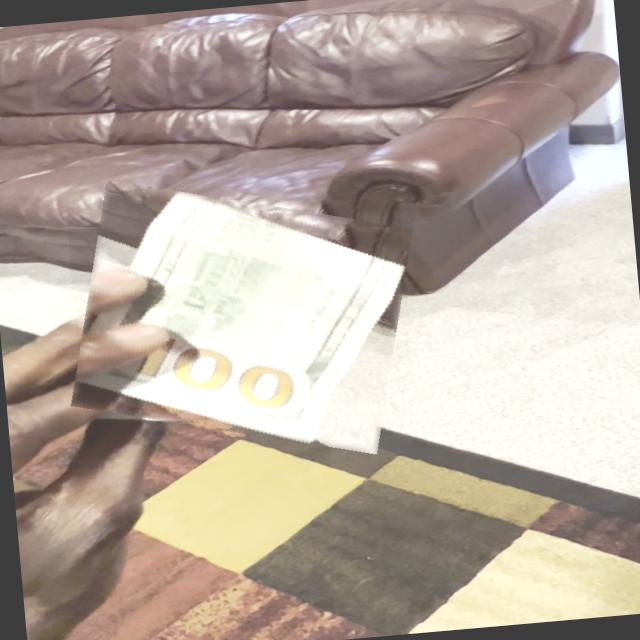hundred: (65, 171, 420, 462)
